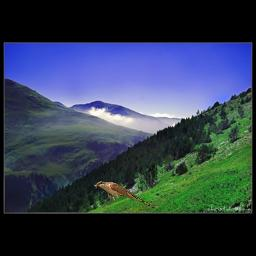Cuckoo: (93, 181, 154, 208)
